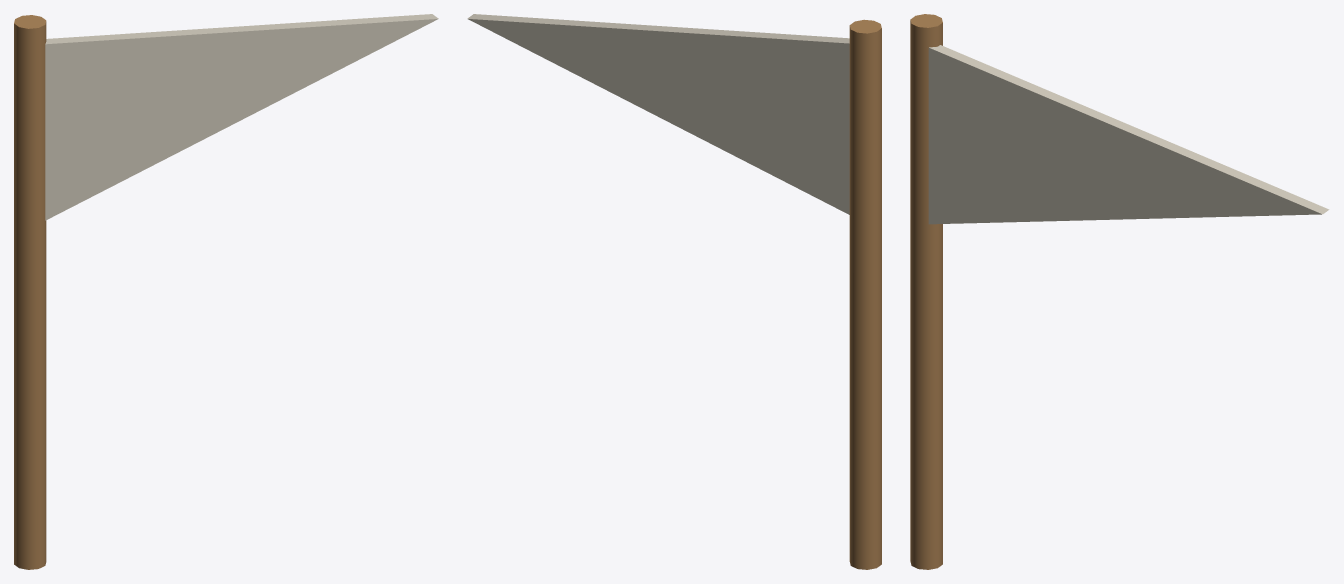
The model's file is flag.glb.
3 renders of one model, left to right at view 1: azimuth 30°, elevation 25°; view 2: azimuth 150°, elevation 25°; view 3: azimuth 330°, elevation 25°, orthographic.
Parts seen in each view (by area): view 1: flag; view 2: flag; view 3: flag.
Boxes of the visible parts, box(x1,y1,x2,y2) form: flag: box(14, 14, 438, 569); flag: box(467, 14, 881, 569); flag: box(910, 14, 1329, 569).
Bounding box in the file's own units: 0.3257 × 0.405 × 0.0225.
